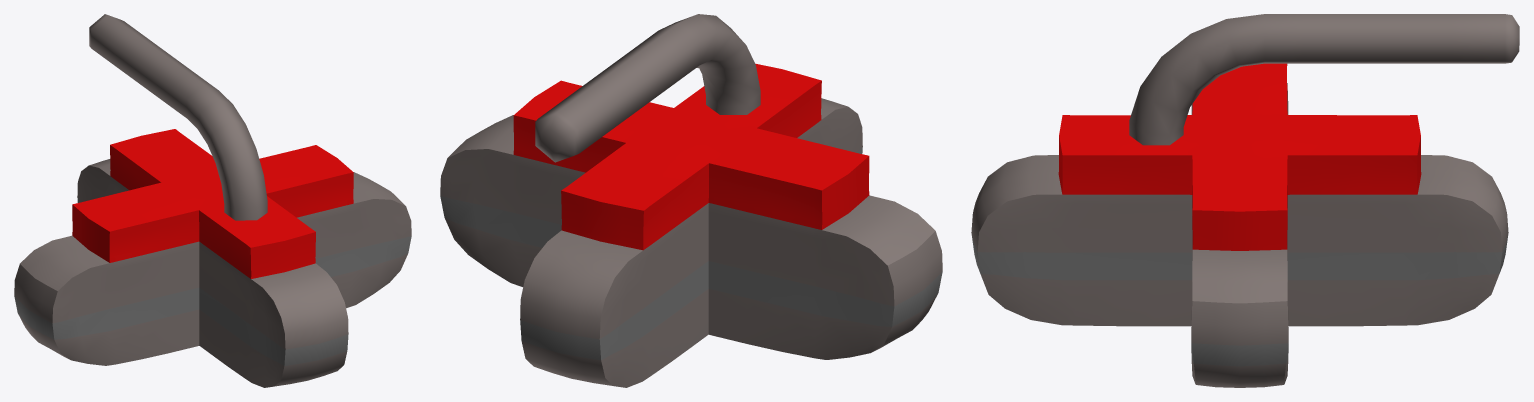
Rendered from X_prop.fbx.
3 views of the same model, side by side, from view 1: azimuth 30°, elevation 25°; view 2: azimuth 150°, elevation 25°; view 3: azimuth 270°, elevation 25° (orthographic). The views are drawn at different scales.
Visible parts, largest first — view 1: X Curling; view 2: X Curling; view 3: X Curling.
Boxes of the visible parts, left/top/right/bottom form: X Curling: left=14, top=14, right=411, bottom=387; X Curling: left=440, top=14, right=942, bottom=387; X Curling: left=971, top=14, right=1519, bottom=387.
Bounding box in the file's own units: 223 × 135 × 229.
